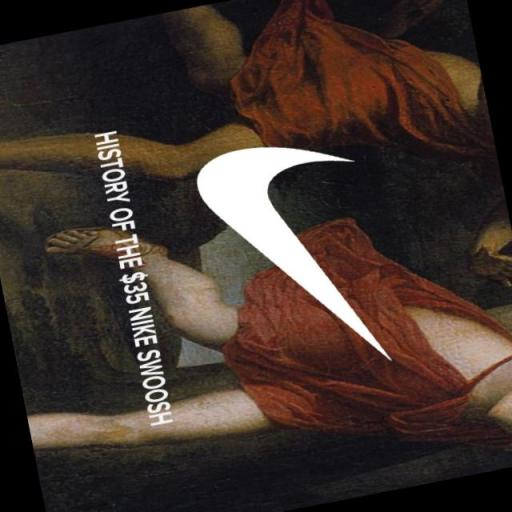Nike: (189, 127, 399, 395)
